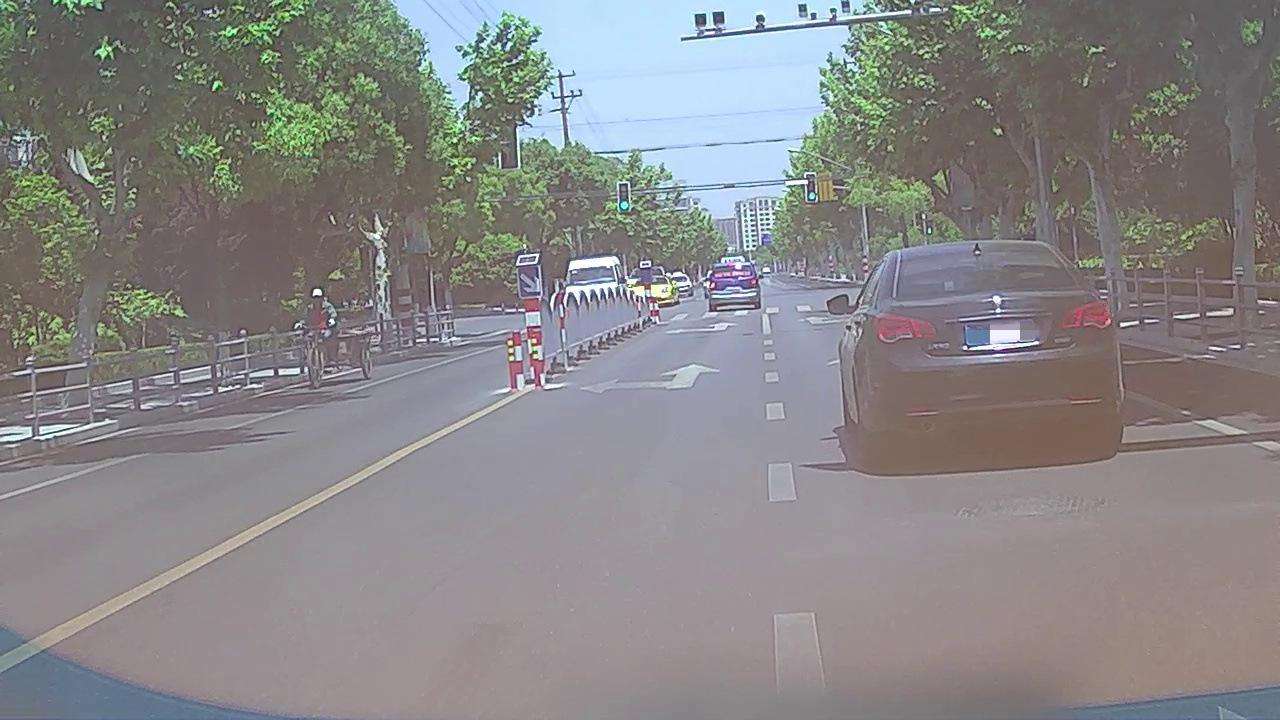traffic_light: (617, 183, 631, 211), (805, 174, 817, 202)
